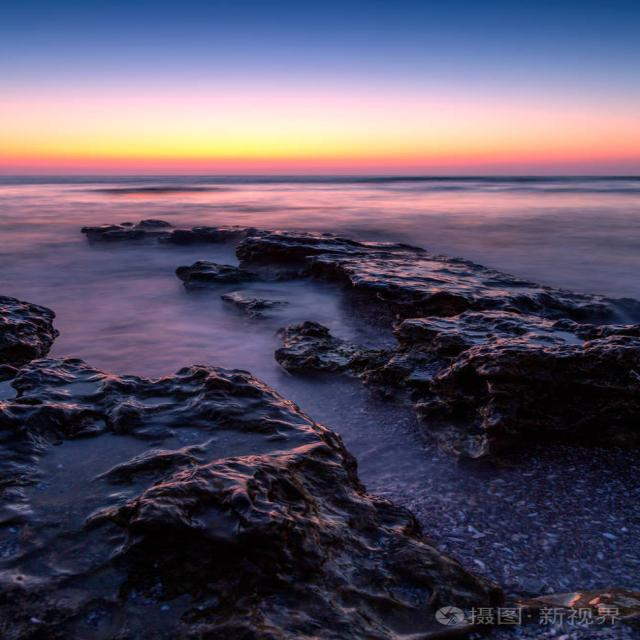reef: (57, 369, 436, 542), (117, 187, 459, 324)
